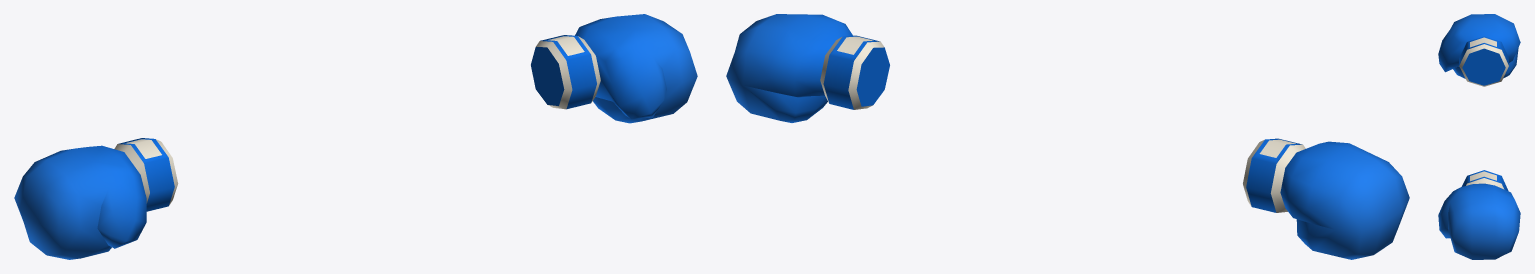
Rendered from Glove_14.fbx.
3 views of the same model, side by side, from view 1: azimuth 30°, elevation 25°; view 2: azimuth 150°, elevation 25°; view 3: azimuth 270°, elevation 25° (orthographic). The views are drawn at different scales.
Parts seen in each view (by area): view 1: Glove_14; view 2: Glove_14; view 3: Glove_14.
Part boxes in pixels (x1=…): Glove_14: x1=14, y1=14, x2=697, y2=259; Glove_14: x1=726, y1=14, x2=1409, y2=259; Glove_14: x1=1438, y1=14, x2=1520, y2=259.
Size of the model in its own units: 136 by 18.64 by 22.94.
